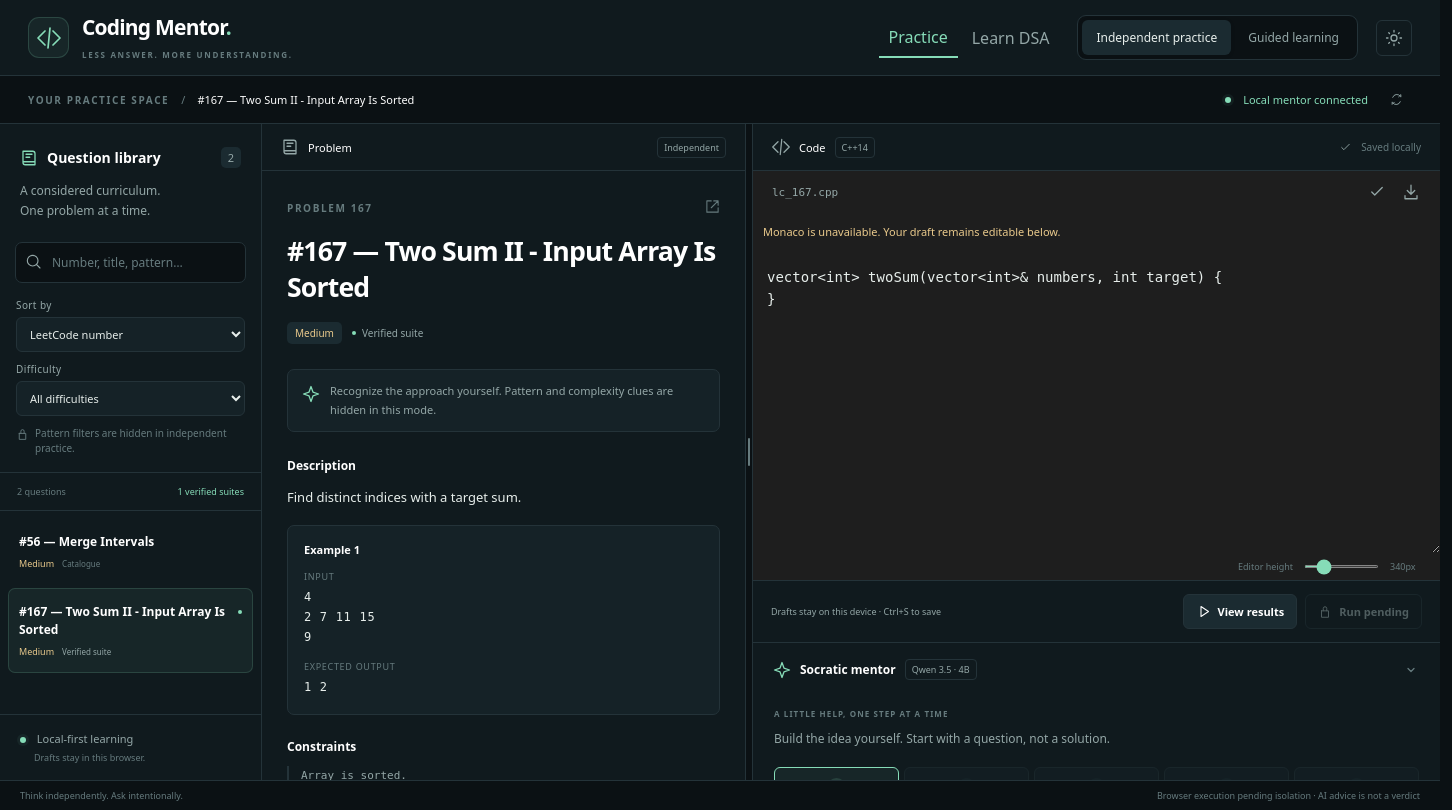
Test case: moves from Learn DSA to official-number practice and restores the existing draft
Replace the text in the text box named "C++ code editor" with "// preserve during learning" at (1096, 402), box 753,252 -> 1440,553
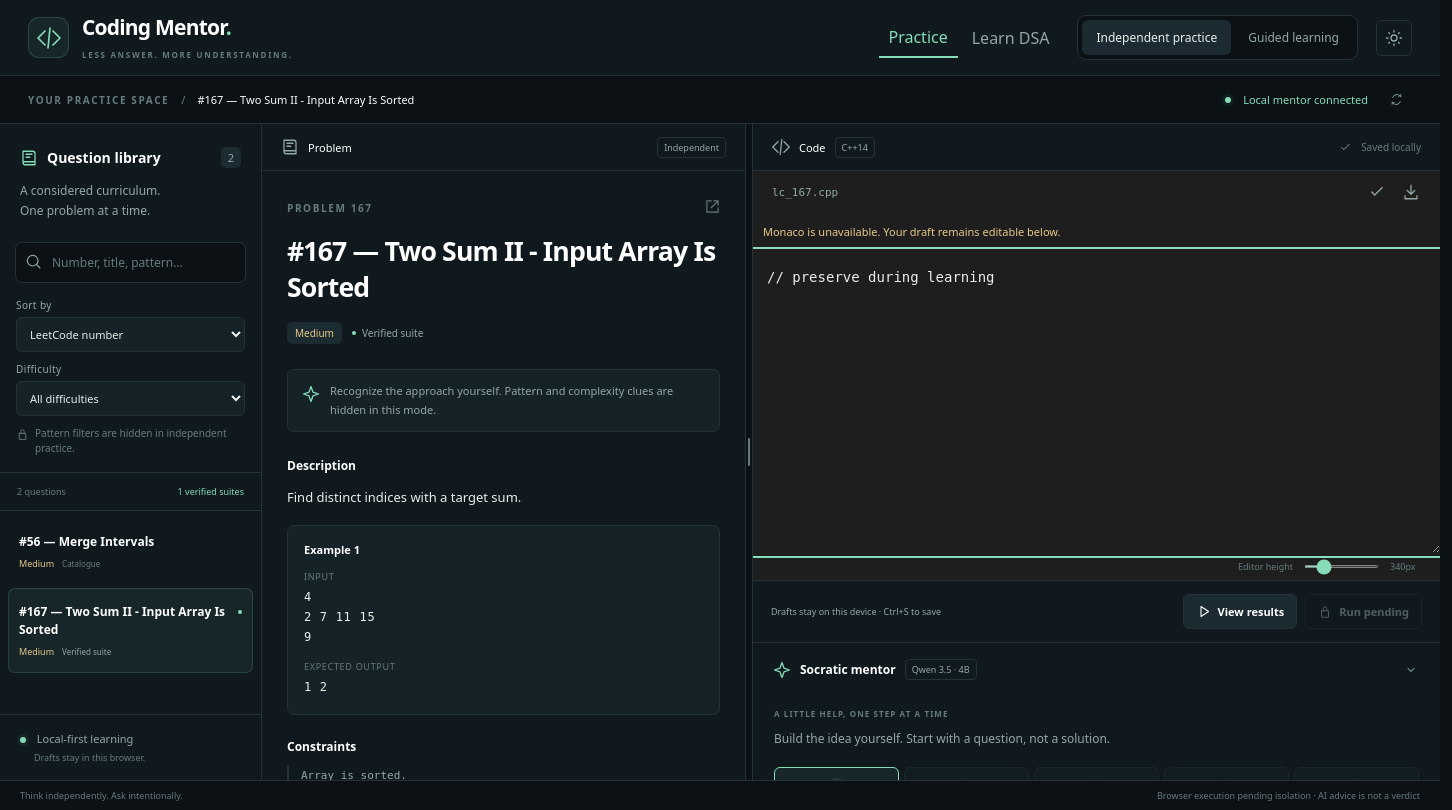
Click the button "Learn DSA" at (1011, 38), box 962,18 -> 1059,58
(page scrolled)
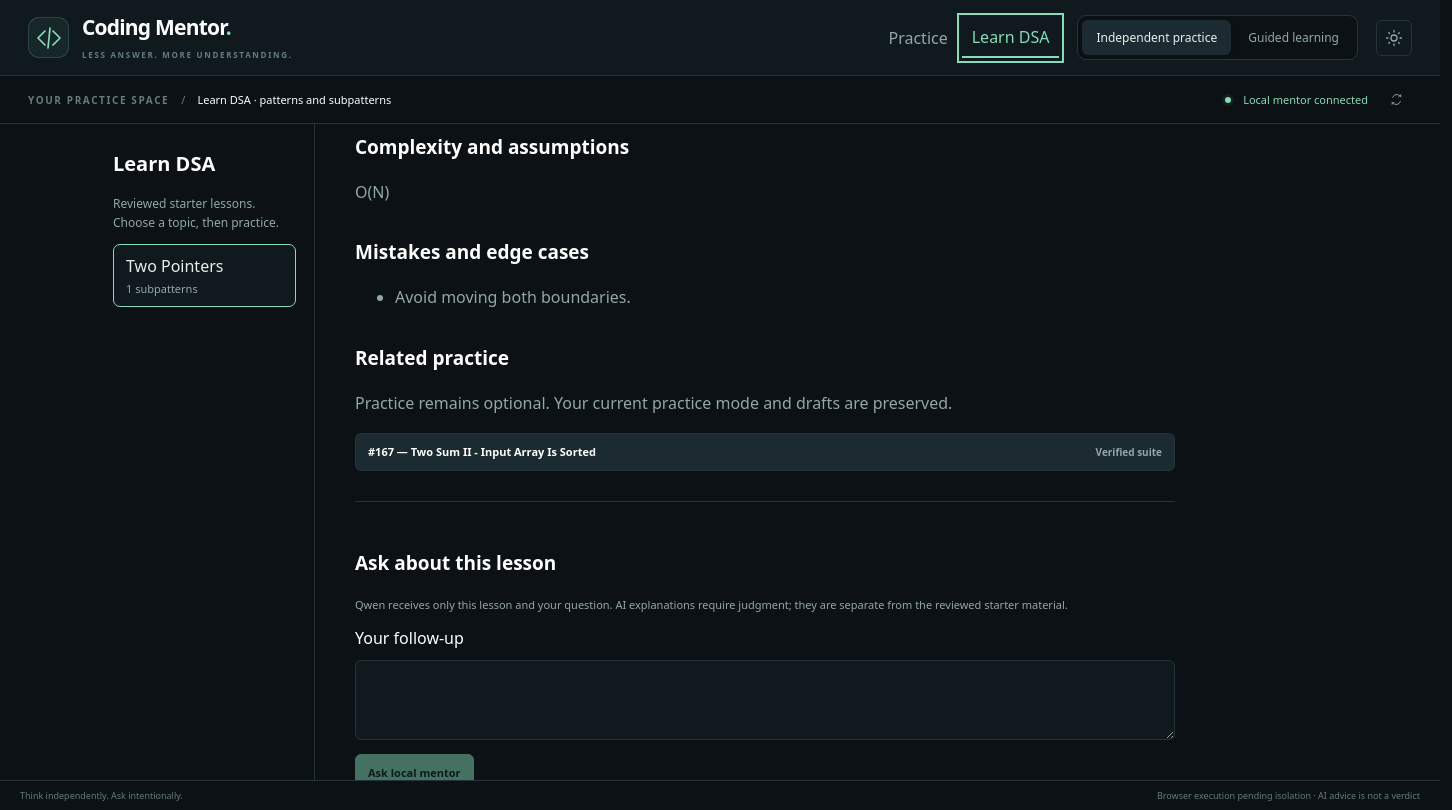
Click the button "#167 — Two Sum II - Input Array Is Sorted Verified suite" at (482, 451), box 355,433 -> 1175,472
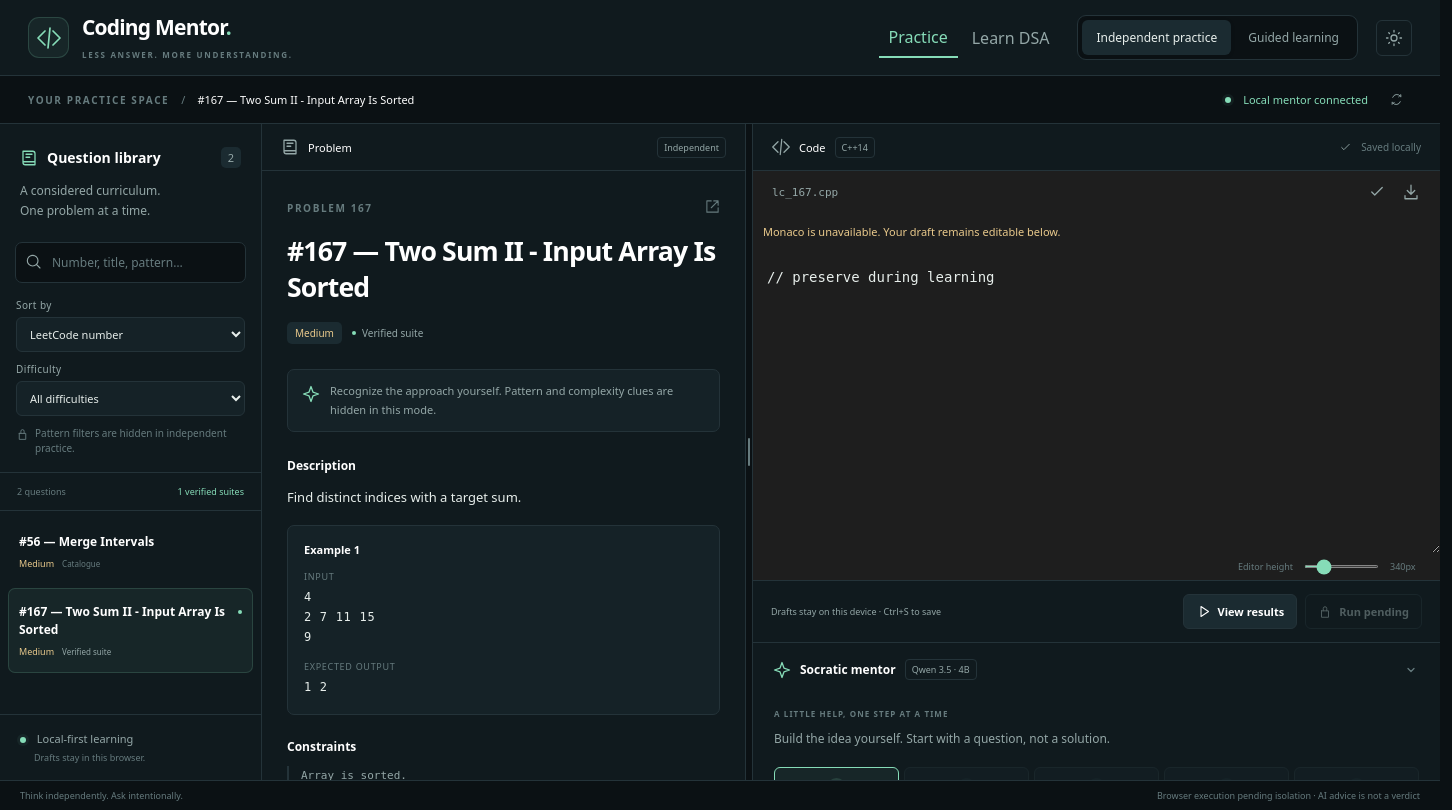
Now the text box named "C++ code editor" holds "// preserve during learning", box 753,252 -> 1440,553
